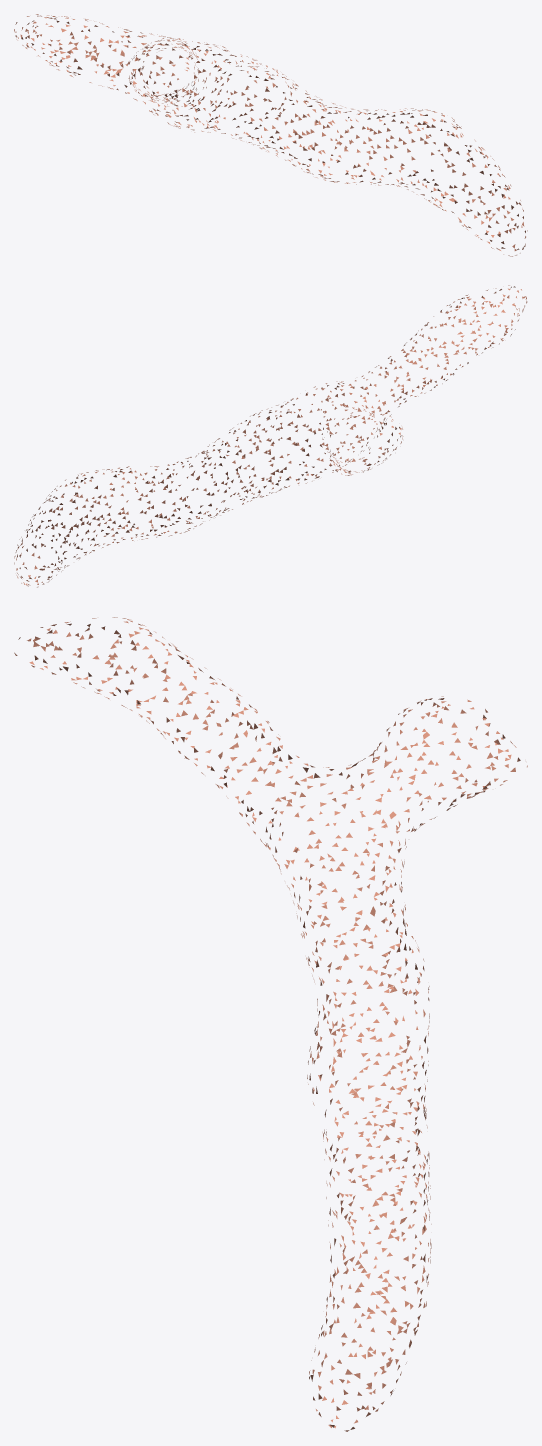
The model's file is morph_003.glb.
The picture shows the model from 3 angles, top to bottom: view 1: azimuth 30°, elevation 25°; view 2: azimuth 150°, elevation 25°; view 3: azimuth 270°, elevation 25°; orthographic projection. The views are drawn at different scales.
Bounding box in the file's own units: 83.04 × 62.51 × 56.35.
